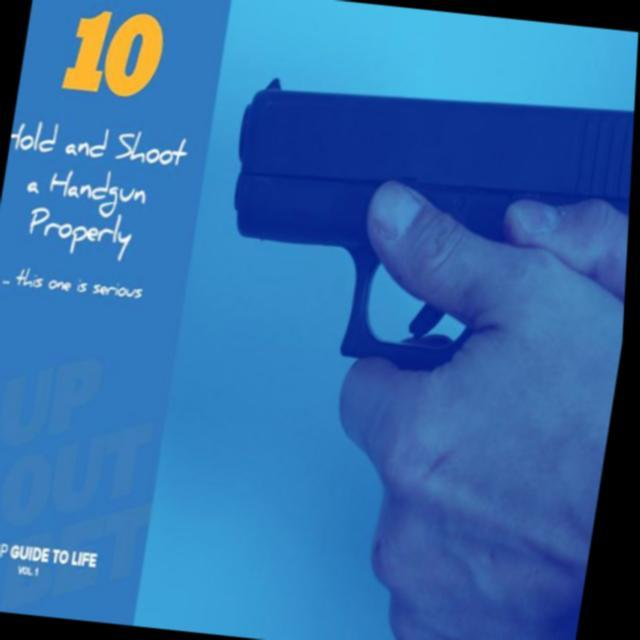weapon: (207, 49, 638, 391)
